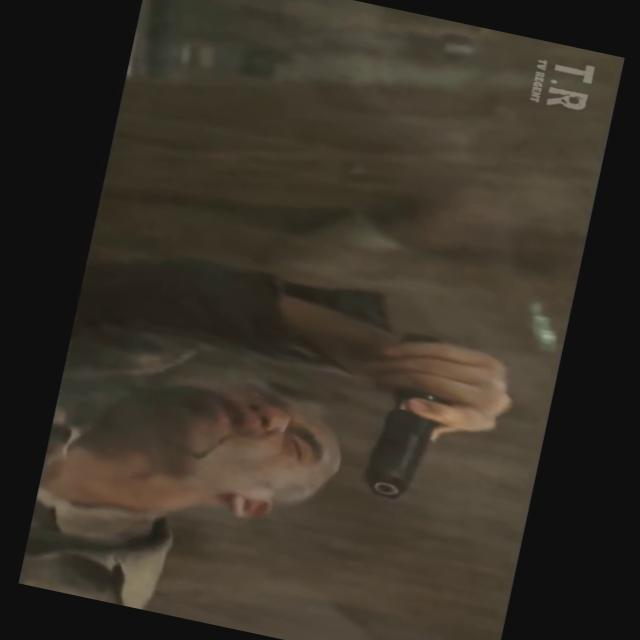handgun: (313, 291, 507, 544)
